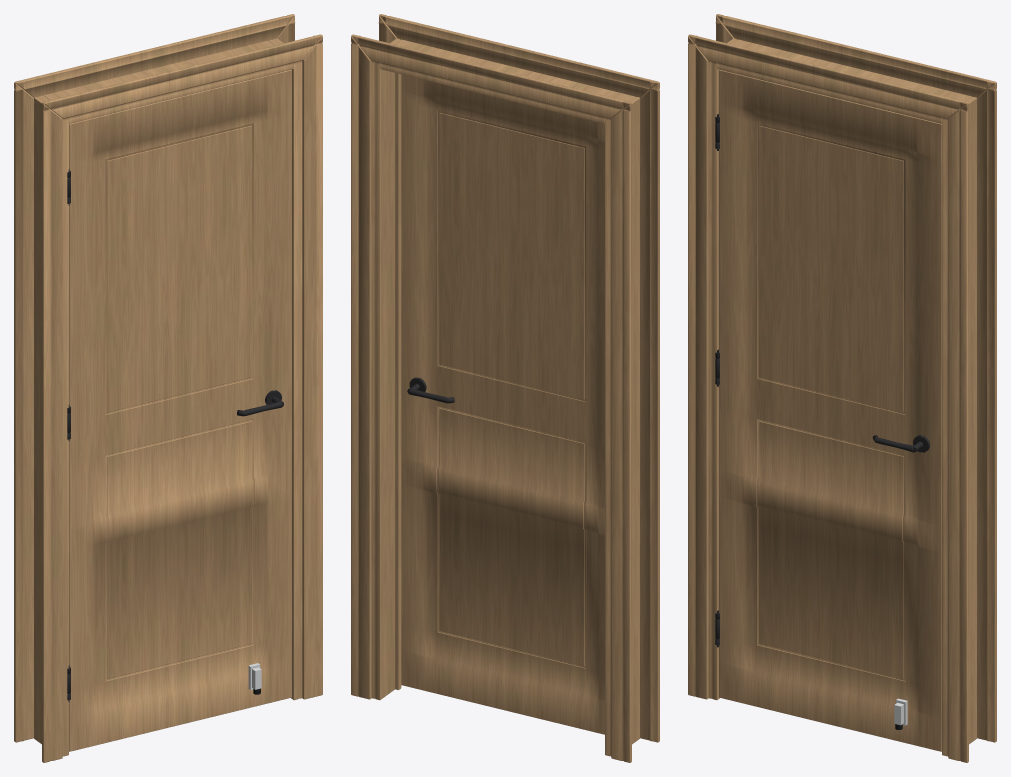
The model's file is mk_door_entry_l.glb.
3 views of the same model, side by side, from view 1: azimuth 30°, elevation 25°; view 2: azimuth 150°, elevation 25°; view 3: azimuth 330°, elevation 25° (orthographic).
Visible parts, largest first — view 1: mk_door_entry_l_leaf_body, mk_door_entry_l_casing, mk_door_entry_l_frame, mk_door_entry_l_handle; view 2: mk_door_entry_l_leaf_body, mk_door_entry_l_casing, mk_door_entry_l_frame; view 3: mk_door_entry_l_leaf_body, mk_door_entry_l_casing, mk_door_entry_l_frame, mk_door_entry_l_handle.
Part boxes in pixels (x1=…): mk_door_entry_l_leaf_body: x1=69, y1=70, x2=291, y2=751; mk_door_entry_l_casing: x1=14, y1=14, x2=322, y2=762; mk_door_entry_l_frame: x1=34, y1=38, x2=302, y2=756; mk_door_entry_l_handle: x1=237, y1=390, x2=283, y2=694; mk_door_entry_l_leaf_body: x1=401, y1=74, x2=604, y2=734; mk_door_entry_l_casing: x1=351, y1=14, x2=659, y2=762; mk_door_entry_l_frame: x1=371, y1=38, x2=639, y2=756; mk_door_entry_l_leaf_body: x1=719, y1=70, x2=941, y2=751; mk_door_entry_l_casing: x1=688, y1=14, x2=996, y2=762; mk_door_entry_l_frame: x1=708, y1=38, x2=976, y2=756; mk_door_entry_l_handle: x1=872, y1=435, x2=929, y2=729.
Bounding box in the file's own units: 0.9356 × 2.11 × 0.2148.
4 materials, 1 textured.
